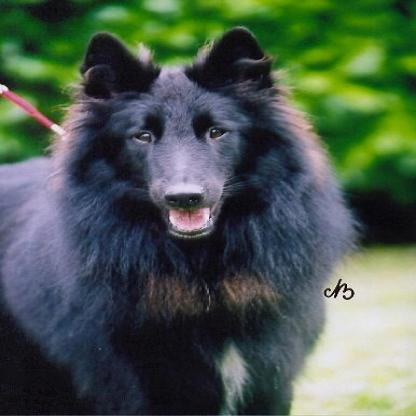groenendael: (0, 23, 358, 414)
